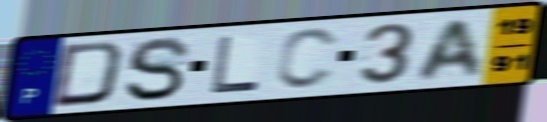3: (355, 21, 417, 86)
A: (413, 16, 486, 83)
C: (273, 26, 343, 92)
D: (48, 39, 128, 110)
L: (208, 34, 263, 96)
S: (122, 35, 194, 103)
